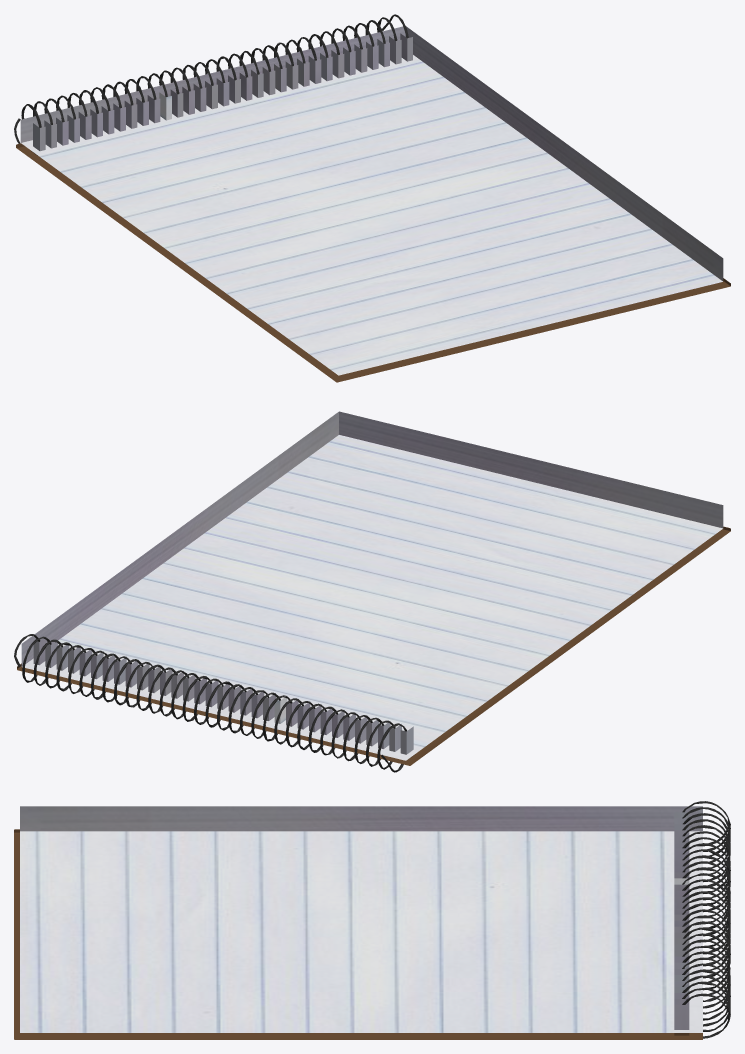
Rendered from notepad.glb.
3 renders of one model, top to bottom at view 1: azimuth 30°, elevation 25°; view 2: azimuth 150°, elevation 25°; view 3: azimuth 270°, elevation 25°, orthographic. The views are drawn at different scales.
Parts seen in each view (by area): view 1: Paper, Cartonage, Binding; view 2: Paper, Binding, Cartonage; view 3: Paper, Binding, Cartonage.
Boxes of the visible parts, x1,y1,x2,y2 form: Paper: (20, 26, 723, 375); Cartonage: (16, 143, 730, 382); Binding: (14, 14, 408, 143); Paper: (21, 411, 723, 760); Binding: (14, 634, 406, 772); Cartonage: (17, 526, 730, 765); Paper: (20, 806, 702, 1032); Binding: (682, 801, 730, 1038); Cartonage: (14, 829, 702, 1039).
Size of the model in its own units: 0.1433 by 0.0154 by 0.21.
Materials: 4 (2 with a texture image).
